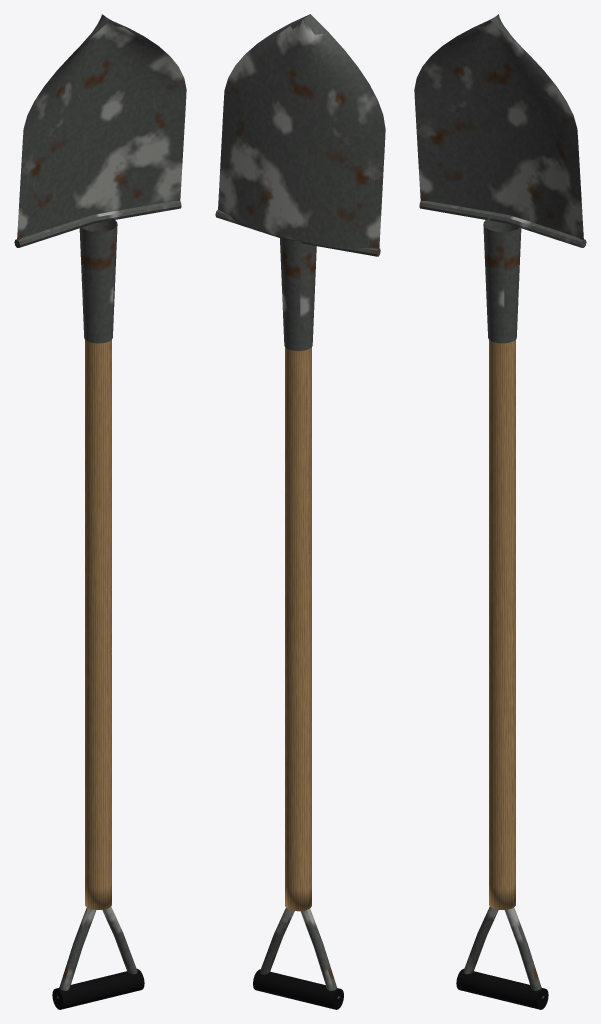
The model's file is shovel.glb.
3 views of the same model, side by side, from view 1: azimuth 30°, elevation 25°; view 2: azimuth 150°, elevation 25°; view 3: azimuth 330°, elevation 25° (orthographic).
Visible parts, largest first — view 1: Shovel_Clean_metal, Shovel_Clean_handle, Shovel_Clean_dgrip; view 2: Shovel_Clean_metal, Shovel_Clean_handle, Shovel_Clean_dgrip; view 3: Shovel_Clean_metal, Shovel_Clean_handle, Shovel_Clean_dgrip.
Part boxes in pixels (bbox=[...]): Shovel_Clean_metal: bbox=[14, 14, 186, 998]; Shovel_Clean_handle: bbox=[85, 340, 111, 909]; Shovel_Clean_dgrip: bbox=[52, 969, 144, 1009]; Shovel_Clean_metal: bbox=[215, 14, 385, 998]; Shovel_Clean_handle: bbox=[285, 347, 311, 911]; Shovel_Clean_dgrip: bbox=[253, 969, 343, 1009]; Shovel_Clean_metal: bbox=[414, 14, 586, 998]; Shovel_Clean_handle: bbox=[489, 340, 515, 909]; Shovel_Clean_dgrip: bbox=[456, 969, 548, 1009].
Size of the model in its own units: 0.2416 by 1.39 by 0.0555.
3 materials, 3 textured.
